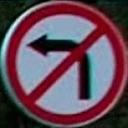NoVirarEsquerda: (4, 2, 128, 128)
